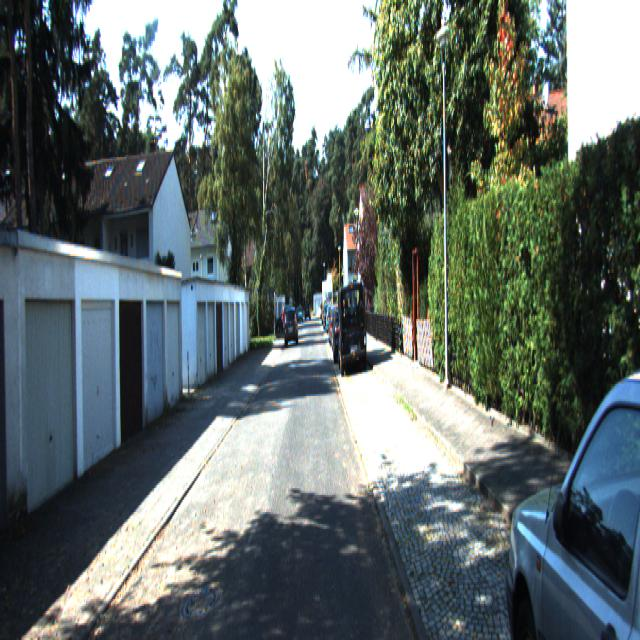Car: (498, 311, 640, 638), (336, 279, 366, 373), (284, 305, 299, 344)
